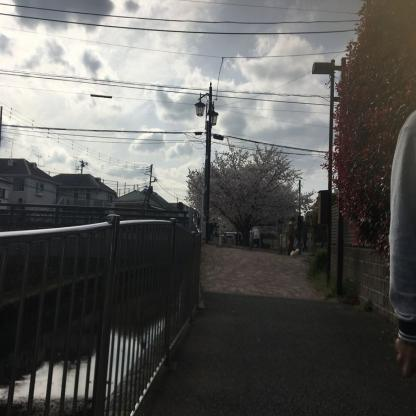Someiyoshino: (180, 138, 318, 238)
